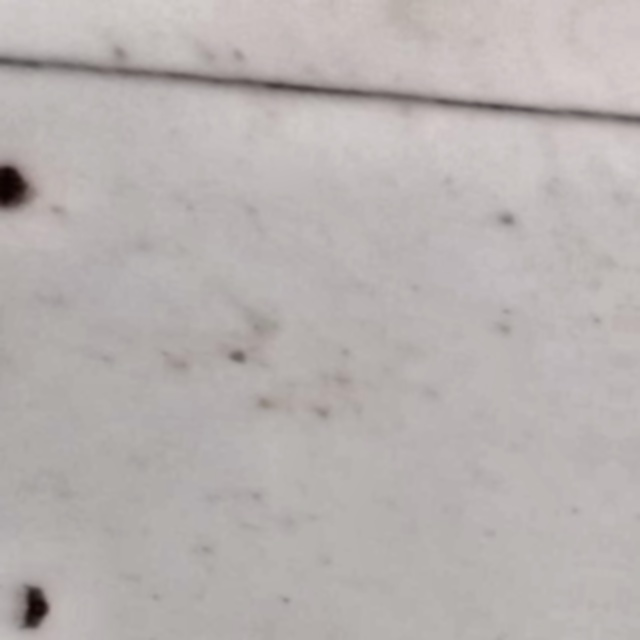varroa: (3, 170, 38, 216)
